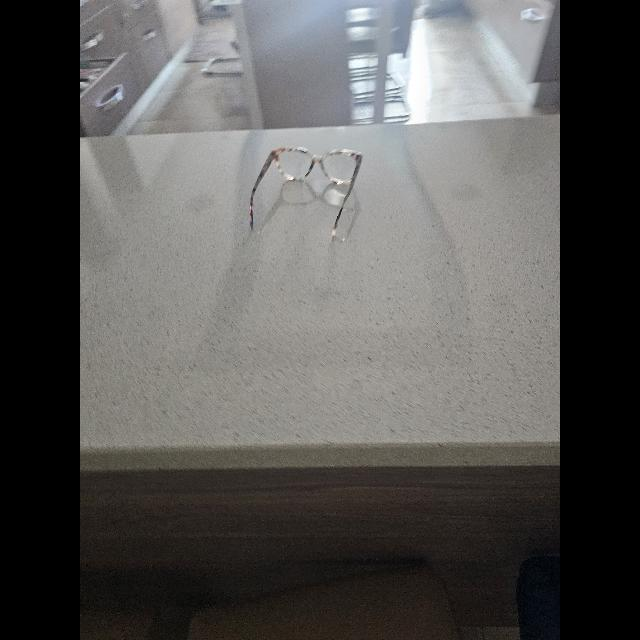glasses: (250, 148, 362, 236)
